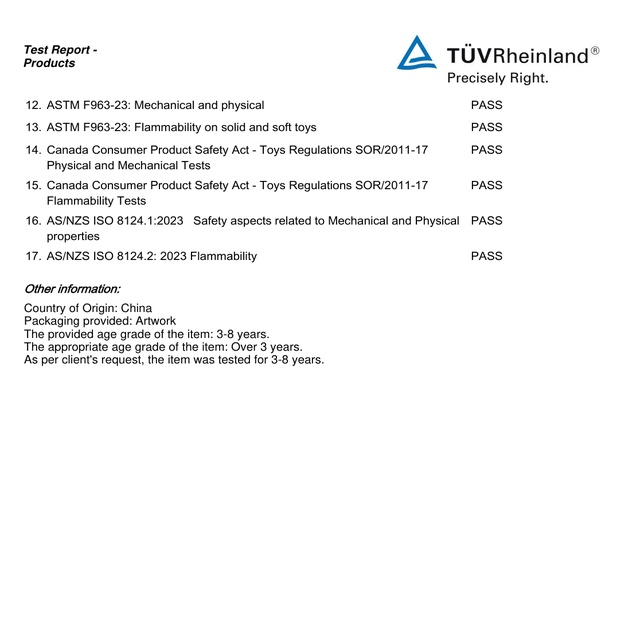tuv_rheinland: (395, 29, 609, 74)
